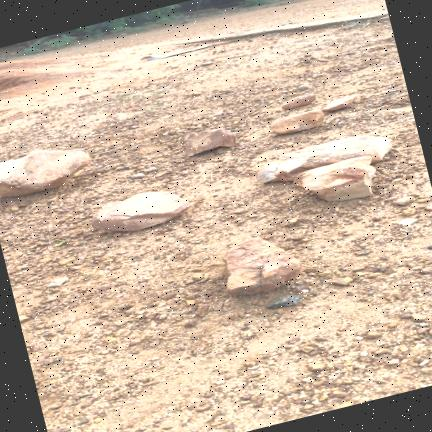Rocks: (258, 136, 392, 182), (223, 238, 302, 294), (0, 149, 90, 196), (93, 191, 191, 231), (294, 156, 375, 201), (186, 128, 236, 156), (271, 109, 324, 134), (323, 95, 358, 112), (282, 93, 316, 110), (268, 295, 303, 309), (47, 277, 69, 288), (393, 196, 414, 206), (332, 277, 353, 286), (308, 363, 326, 372), (115, 328, 131, 337), (59, 257, 75, 265), (411, 314, 427, 322), (365, 331, 381, 339), (399, 218, 417, 225), (298, 83, 312, 91), (130, 173, 145, 179), (19, 315, 30, 323), (420, 266, 431, 274), (386, 359, 399, 365), (201, 61, 213, 66), (191, 91, 201, 96), (424, 204, 431, 211), (429, 329, 431, 335)
